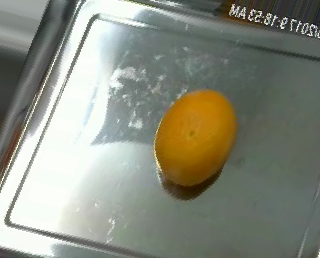Orange: (153, 88, 237, 188)
